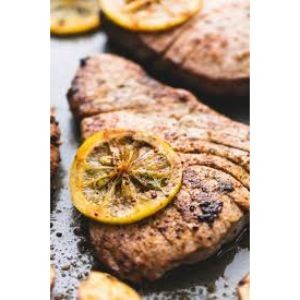tuna_brain food: (70, 92, 229, 273), (134, 9, 246, 66)
